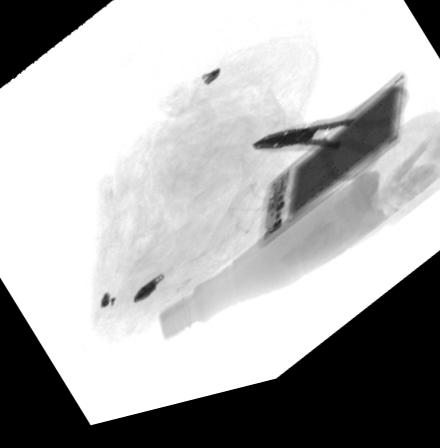Powerbank: (257, 91, 404, 263)
Scissors: (248, 101, 410, 200)
